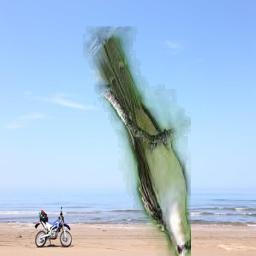Cuckoo: (83, 26, 191, 256)
